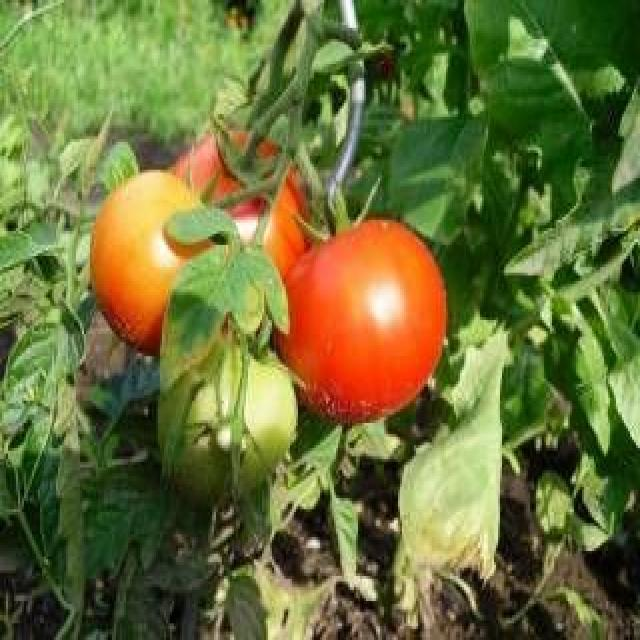level 2: (157, 327, 292, 497)
level 5: (91, 171, 221, 355)
level 6: (274, 217, 446, 415), (170, 132, 310, 312)
